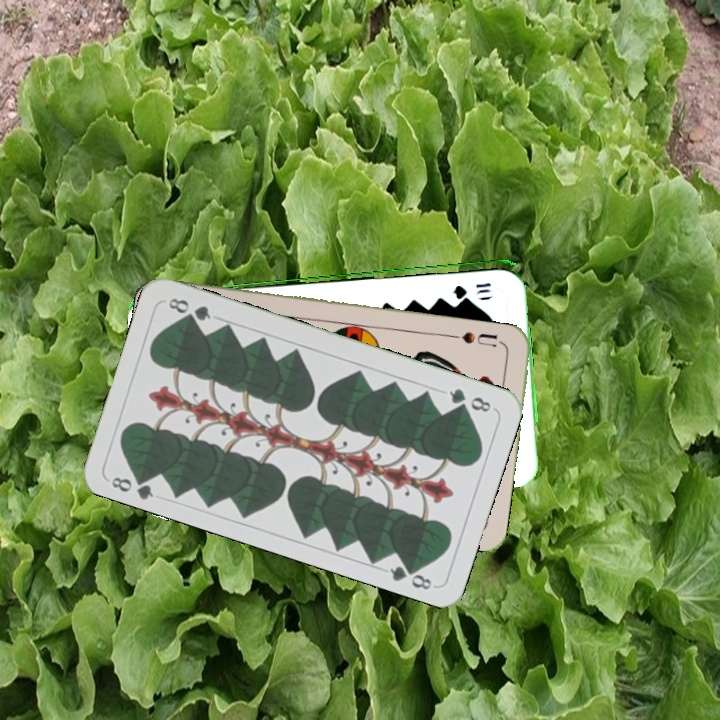G10: (449, 279, 494, 298)
G8: (107, 469, 156, 502), (444, 384, 494, 415)
SU: (447, 327, 506, 350)
